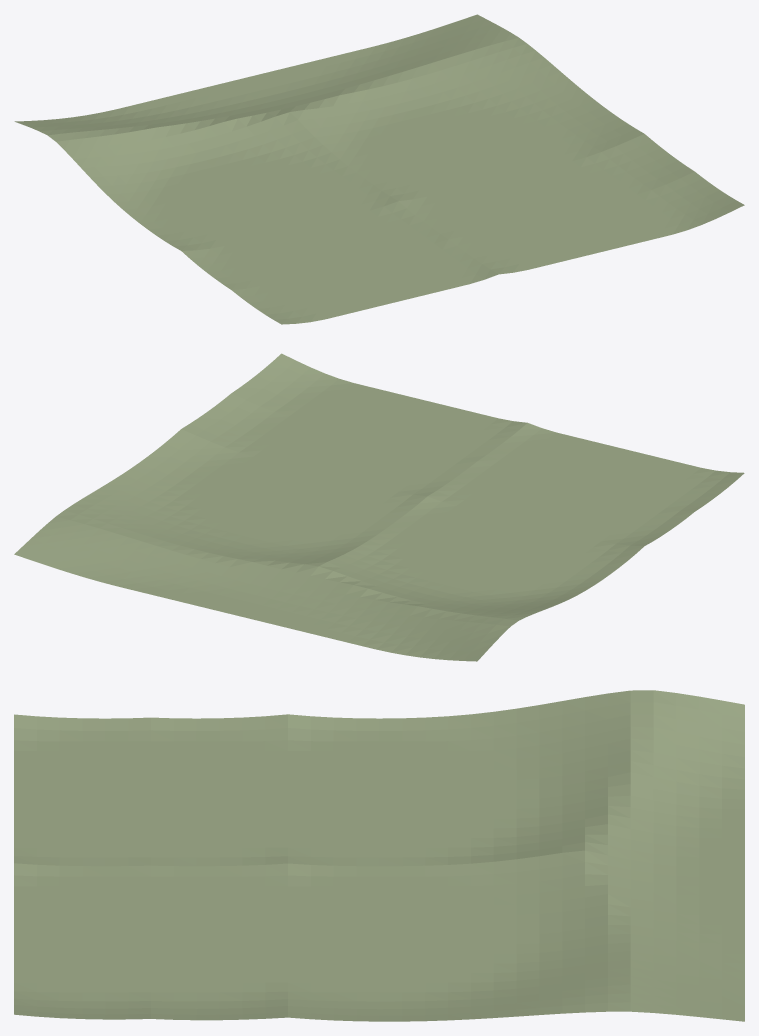
Rendered from gardens-5-6.glb.
The picture shows the model from 3 angles, top to bottom: view 1: azimuth 30°, elevation 25°; view 2: azimuth 150°, elevation 25°; view 3: azimuth 270°, elevation 25°; orthographic projection. The views are drawn at different scales.
Visible parts, largest first — view 1: gardens-5-6; view 2: gardens-5-6; view 3: gardens-5-6.
Boxes of the visible parts, x1,y1,x2,y2 form: gardens-5-6: (14,14,744,324); gardens-5-6: (14,353,744,661); gardens-5-6: (14,690,744,1021).
Size of the model in its own units: 256 by 12.33 by 256.
